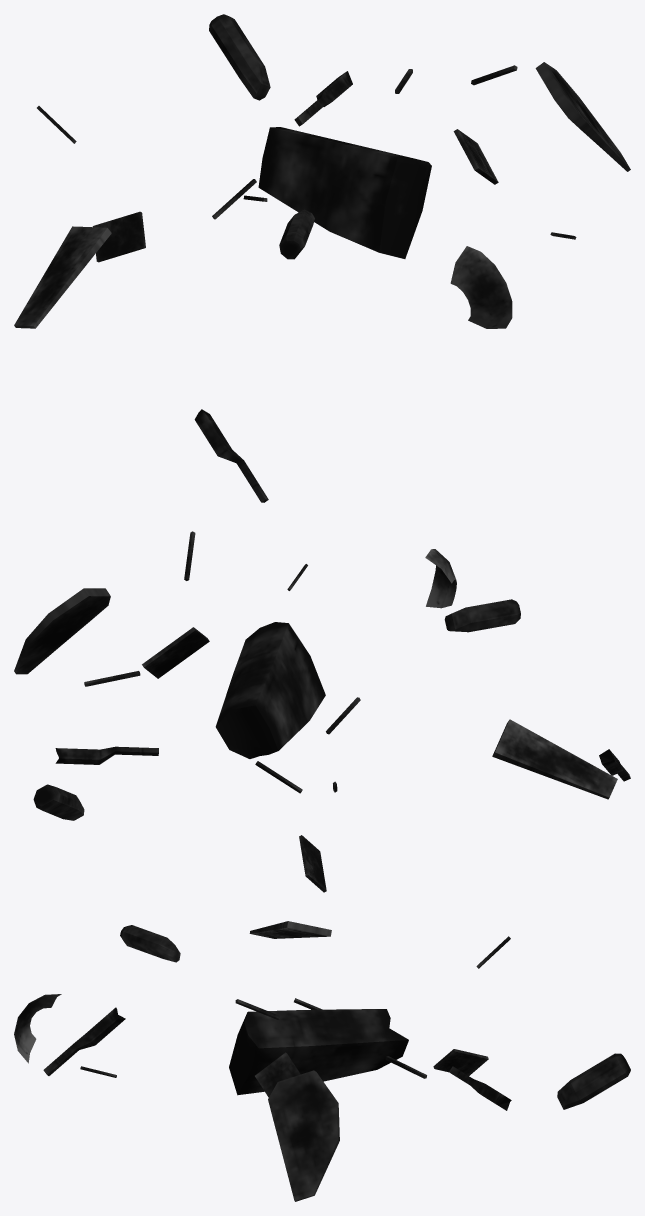
Rendered from DebrisShipA_sm.gltf.
3 renders of one model, top to bottom at view 1: azimuth 30°, elevation 25°; view 2: azimuth 150°, elevation 25°; view 3: azimuth 270°, elevation 25°, orthographic. The views are drawn at different scales.
Parts seen in each view (by area): view 1: ShipDebris03; view 2: ShipDebris03; view 3: ShipDebris03.
Part boxes in pixels (x1,y1,x2,y2): ShipDebris03: [14, 14, 630, 502]; ShipDebris03: [14, 531, 630, 892]; ShipDebris03: [14, 921, 630, 1201].
Bounding box in the file's own units: 27.8 × 11.29 × 27.82.
1 material, 1 textured.
